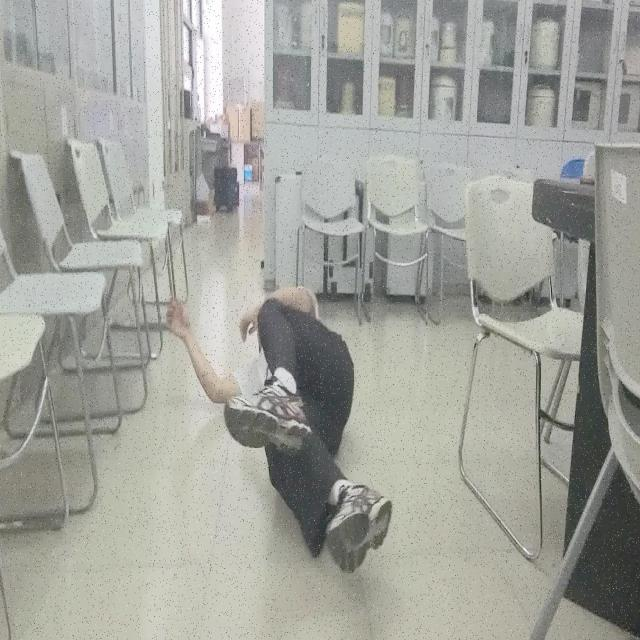fall: (164, 284, 392, 580)
